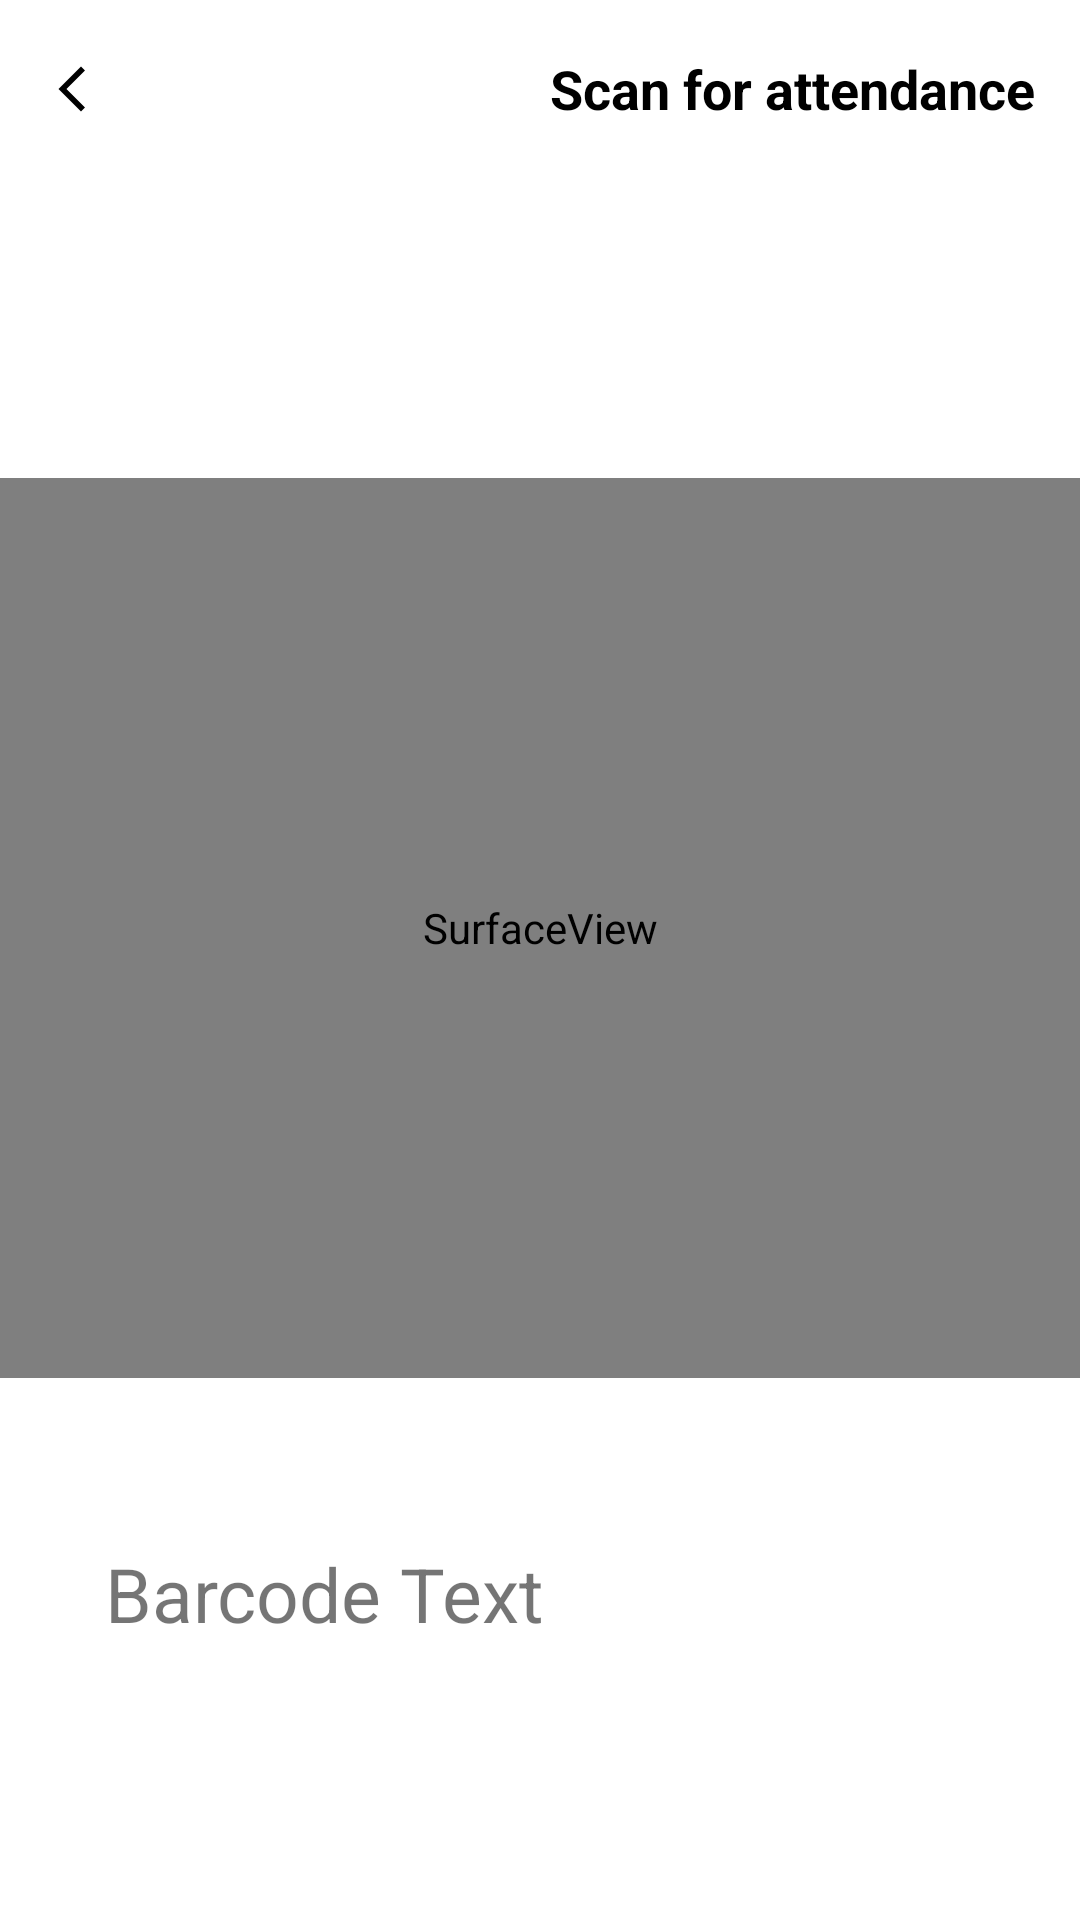

Named icons in this screenshot (1080×1920) and their centers, [x,y]:
arrow back: [71,89]
